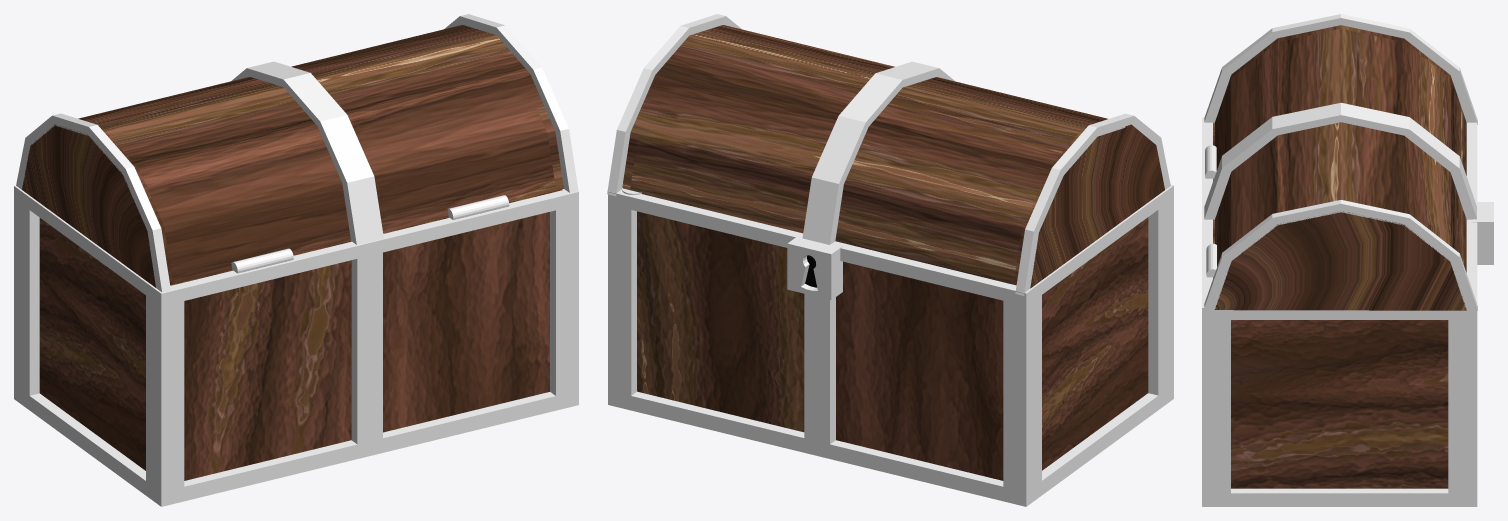
The model's file is Truhe01.glb.
3 views of the same model, side by side, from view 1: azimuth 30°, elevation 25°; view 2: azimuth 150°, elevation 25°; view 3: azimuth 270°, elevation 25° (orthographic). The views are drawn at different scales.
Parts seen in each view (by area): view 1: Truhe, Truehndeckel, Rahmen, Eisen des Truhendeckel, Cylinder.003, Cylinder.002; view 2: Truehndeckel, Truhe, Rahmen, Eisen des Truhendeckel, Schloss; view 3: Truehndeckel, Truhe, Rahmen, Eisen des Truhendeckel, Schloss, Cylinder.003, Cylinder.002.
Boxes of the visible parts, box(x1,y1,x2,y2) form: Truhe: box(39, 189, 562, 480); Truehndeckel: box(22, 25, 563, 287); Rahmen: box(14, 185, 578, 506); Eisen des Truhendeckel: box(16, 14, 578, 292); Cylinder.003: box(231, 248, 293, 273); Cylinder.002: box(447, 195, 509, 219); Truehndeckel: box(622, 25, 1164, 288); Truhe: box(637, 211, 1148, 480); Rahmen: box(608, 185, 1173, 506); Eisen des Truhendeckel: box(607, 14, 1170, 295); Schloss: box(787, 235, 842, 300); Truehndeckel: box(1214, 25, 1466, 310); Truhe: box(1213, 122, 1448, 488); Rahmen: box(1202, 117, 1477, 506); Eisen des Truhendeckel: box(1203, 14, 1477, 312); Schloss: box(1472, 202, 1493, 264); Cylinder.003: box(1205, 145, 1216, 178); Cylinder.002: box(1206, 243, 1216, 277).
Bounding box in the file's own units: 4.11 × 3.05 × 2.66.
Materials: 4 (1 with a texture image).
